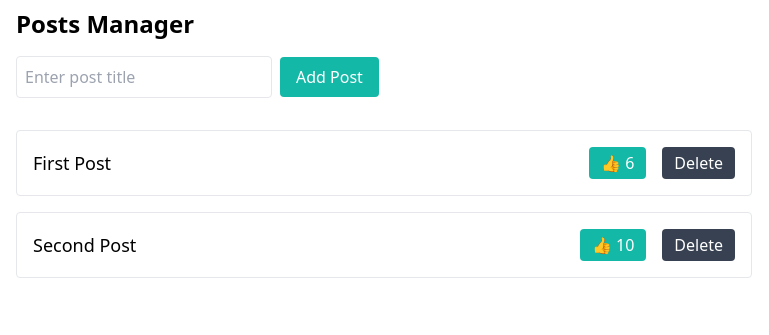
Scenario: App Component › shows error message when updating posts fails
The image size is (769, 335).
Step 1. Click the button "👍 6" → (618, 163), box [589, 147, 646, 179]
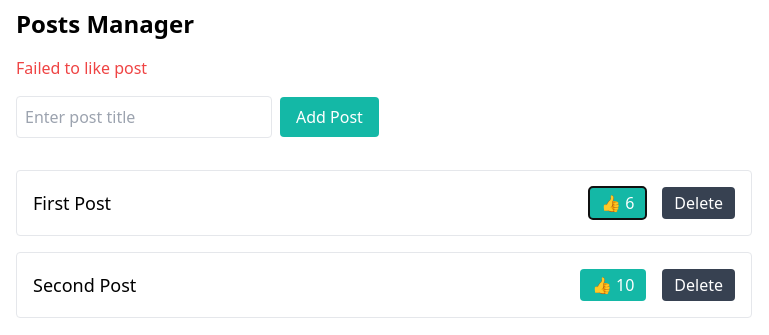
Check: the text "Failed to like post" is shown, box [16, 57, 147, 79]
